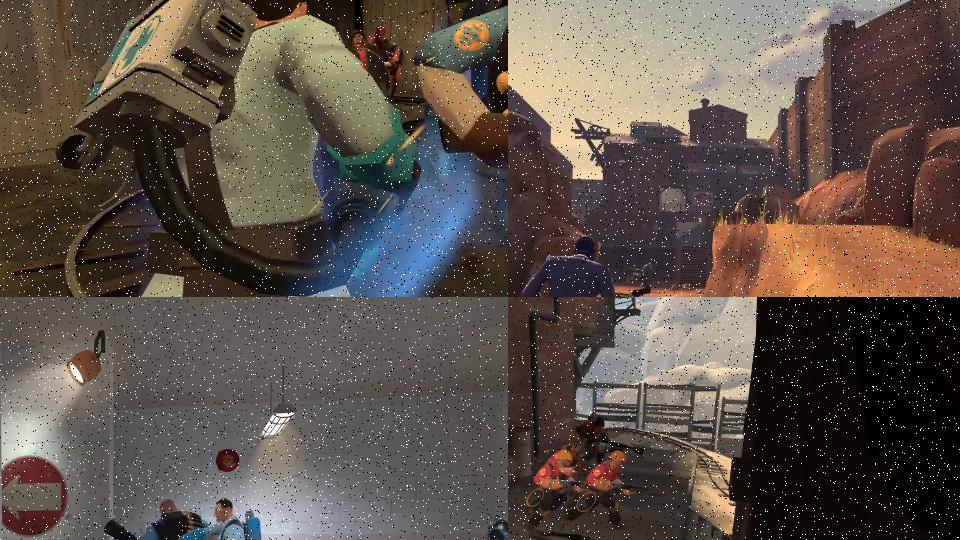Enemy: (66, 0, 422, 297), (413, 0, 508, 297), (520, 229, 658, 297), (558, 449, 641, 537), (525, 449, 587, 539), (152, 497, 267, 540), (103, 497, 217, 540), (573, 413, 645, 471), (348, 25, 390, 104), (380, 38, 403, 102)
